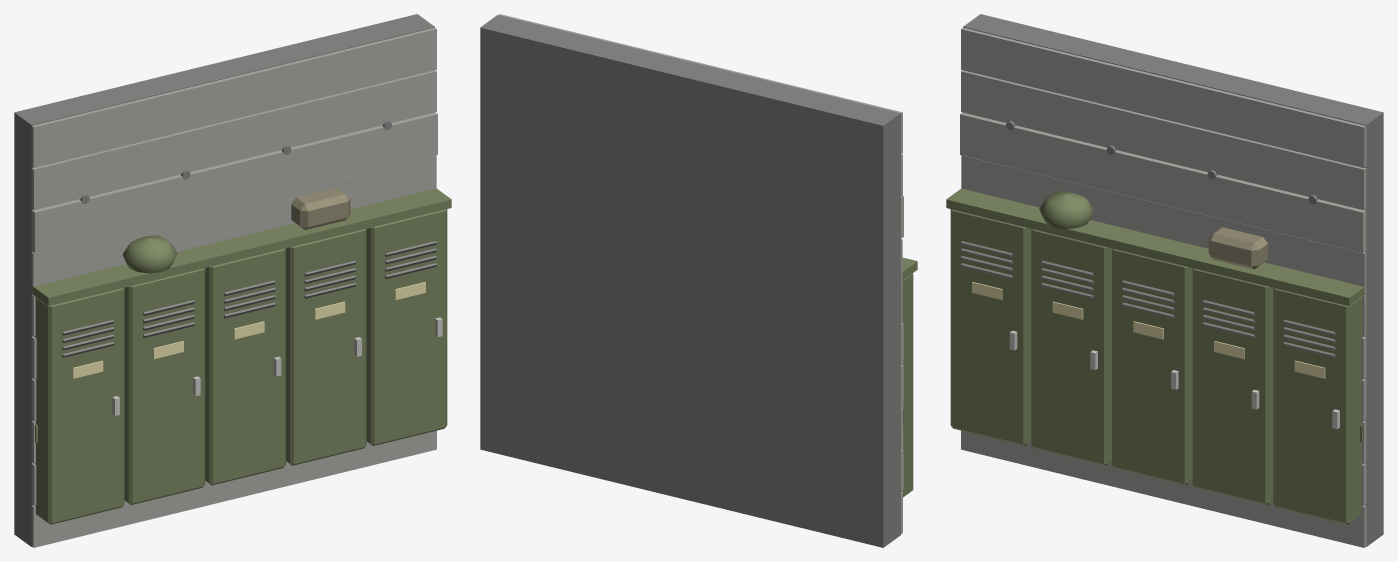
Rendered from wall_bk_lockers.glb.
3 views of the same model, side by side, from view 1: azimuth 30°, elevation 25°; view 2: azimuth 150°, elevation 25°; view 3: azimuth 330°, elevation 25° (orthographic).
Parts seen in each view (by area): view 1: wall_bk_lockers; view 2: wall_bk_lockers; view 3: wall_bk_lockers.
Part boxes in pixels (x1,y1,x2,y2): wall_bk_lockers: (14,14,451,547); wall_bk_lockers: (480,14,917,547); wall_bk_lockers: (946,14,1383,547).
Size of the model in its own units: 4 by 4 by 0.66.
